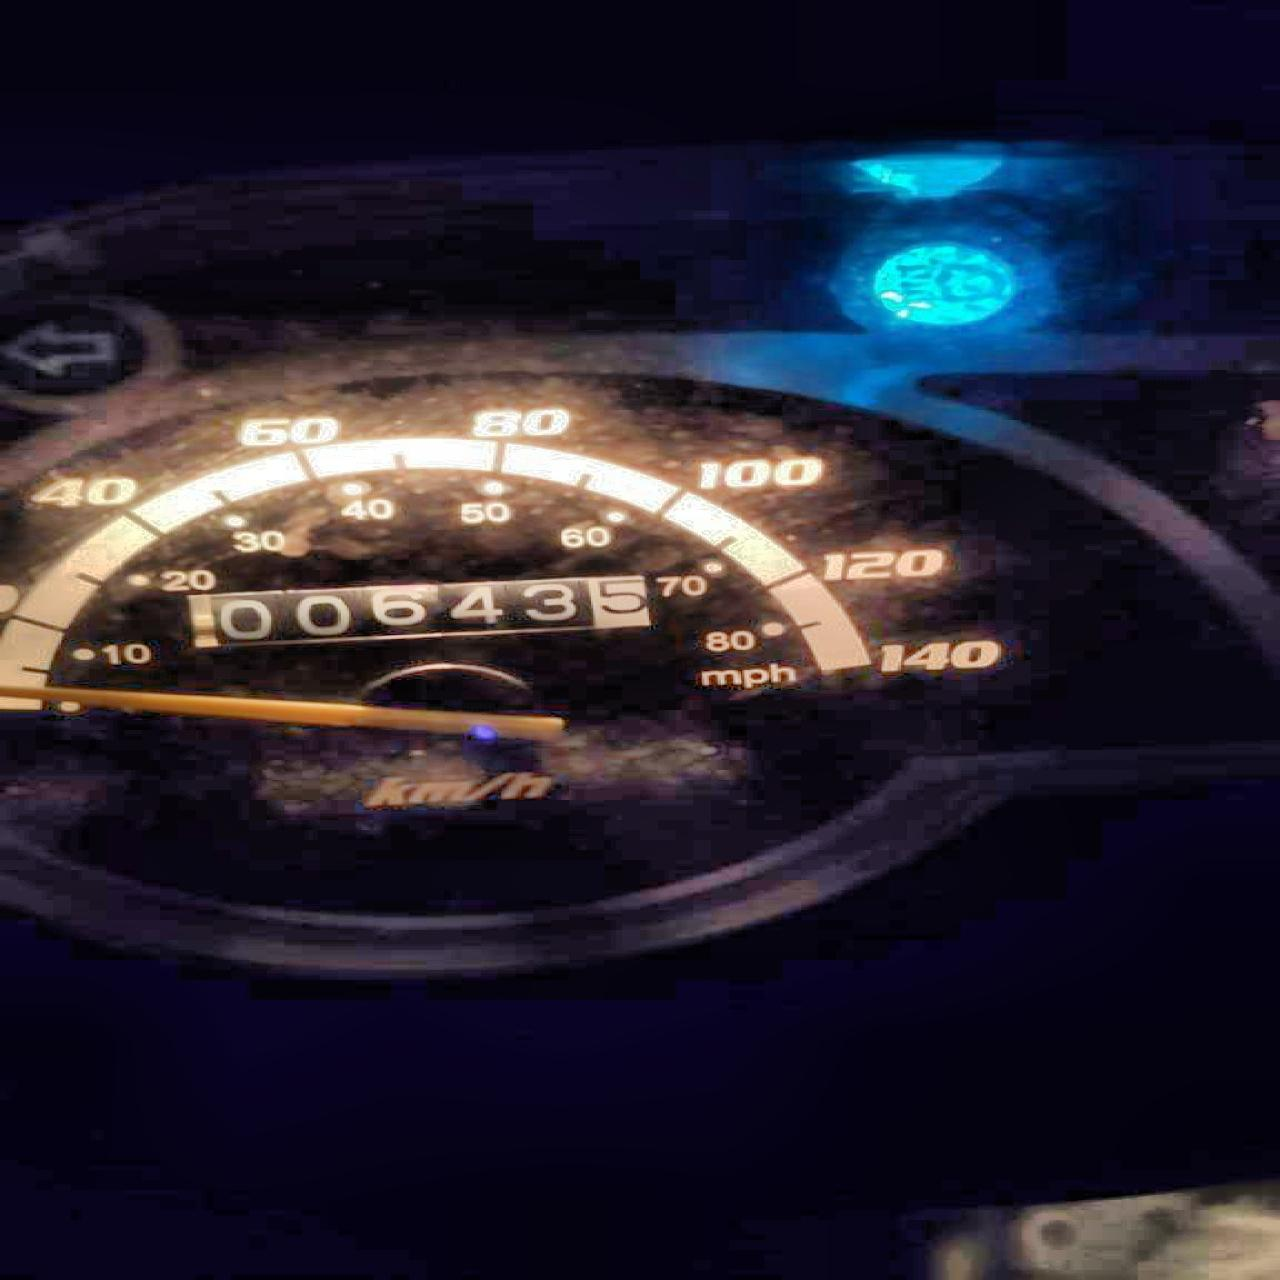0: (216, 598, 271, 640), (293, 594, 349, 635), (184, 568, 216, 590)
3: (520, 581, 576, 620)
4: (447, 585, 502, 622)
5: (595, 578, 645, 613)
6: (369, 587, 427, 626)
odometer: (183, 573, 654, 648)
